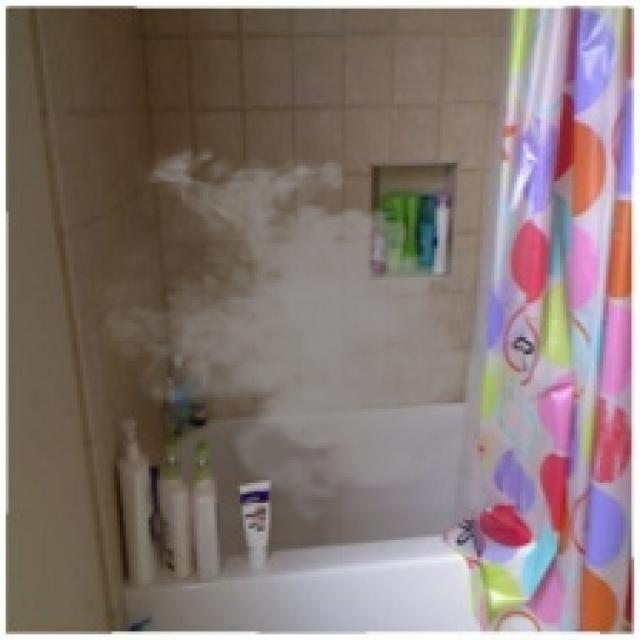smoke: (80, 137, 494, 526)
